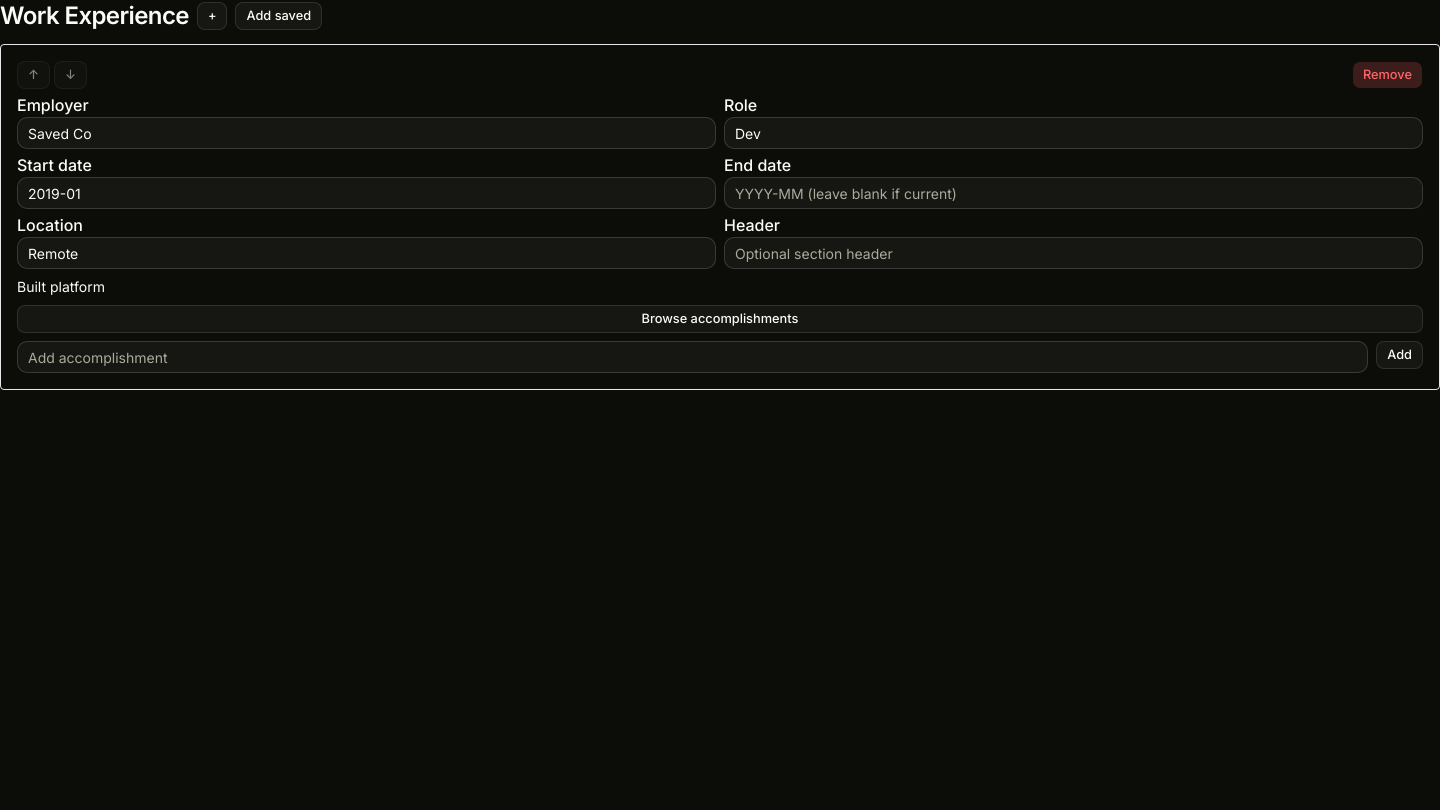
Test case: WorkExperienceSection › shows a confirmation dialog before permanently removing an orphaned accomplishment
This screenshot has width=1440, height=810.
What coordinates should you click on to do the following:
click the button with test id "acc-lookup-trigger"
I would click on:
 (720, 319)
Its box is [17,305,1423,333].
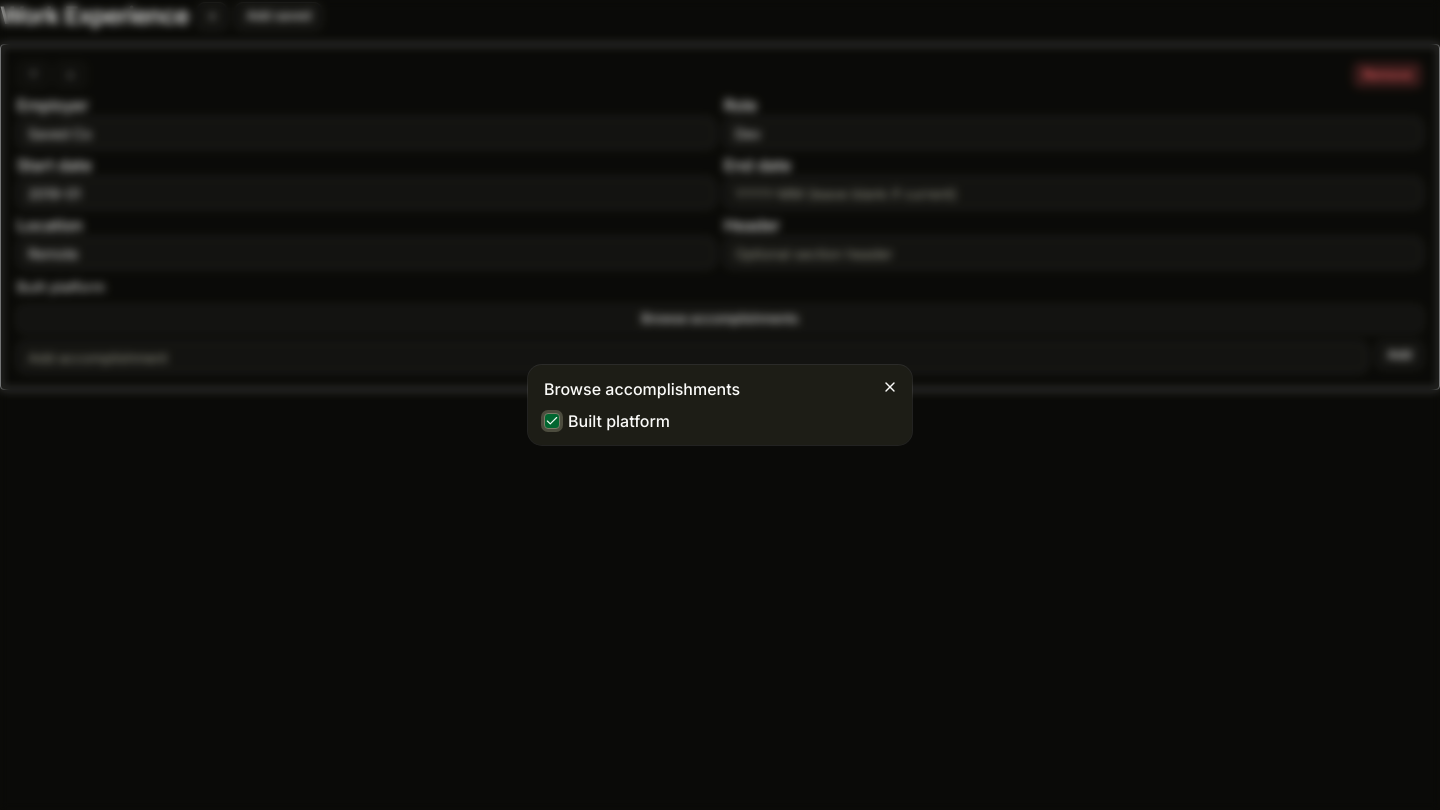
What coordinates should you click on to do the following:
click the checkbox named "Built platform"
I would click on:
 (552, 421)
Its box is [544,413,560,429].
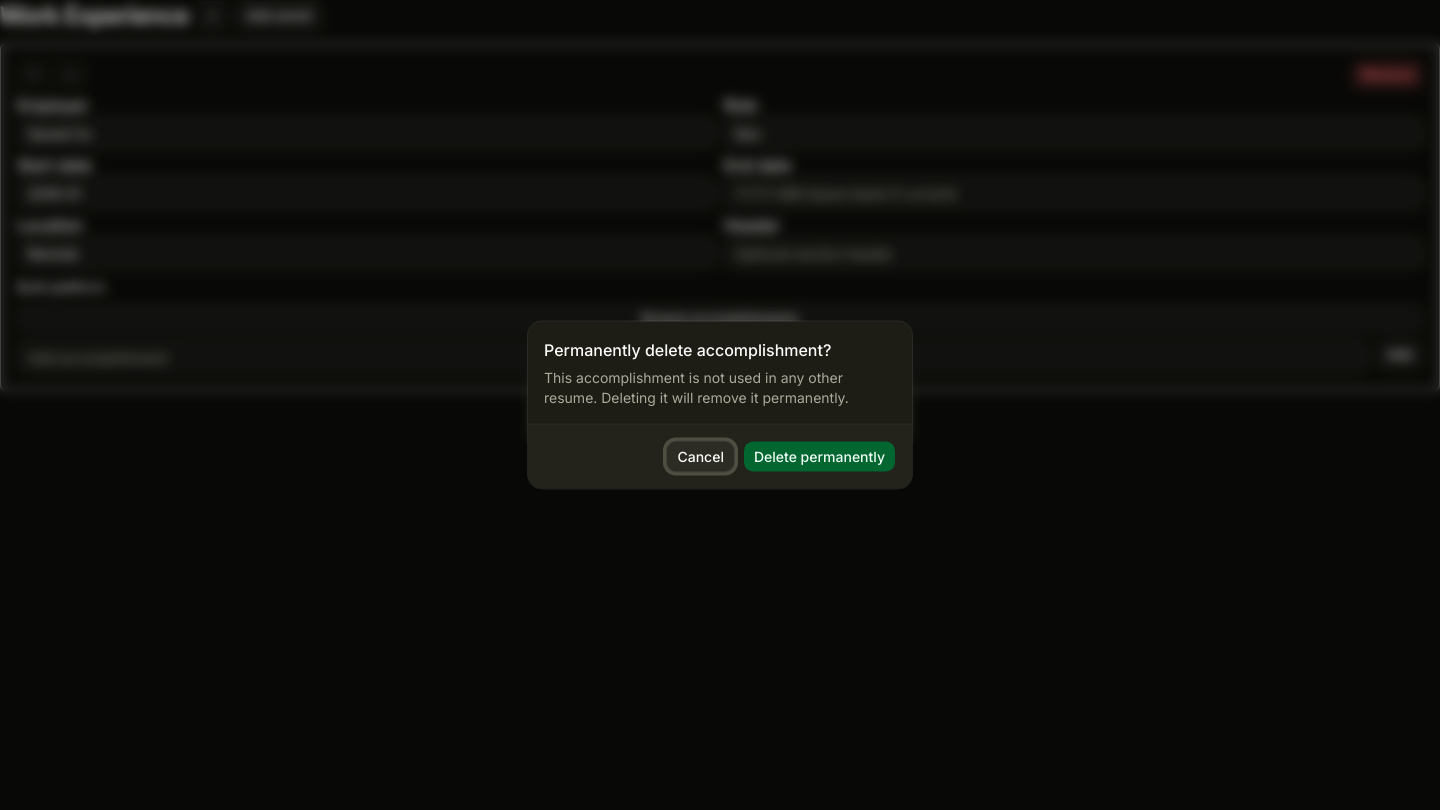
Result: the dialog with test id "acc-delete-confirm-dialog" is shown at [528,322,912,488]
